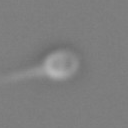normal: (1, 64, 43, 87)
